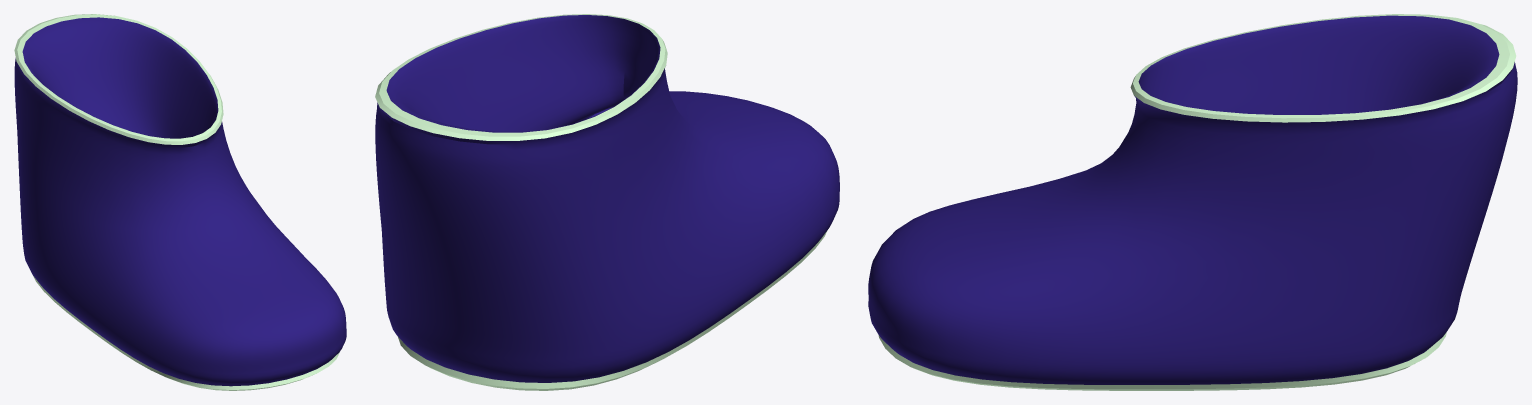
Rendered from галош.fbx.
The picture shows the model from 3 angles, left to right: view 1: azimuth 30°, elevation 25°; view 2: azimuth 150°, elevation 25°; view 3: azimuth 270°, elevation 25°; orthographic projection. The views are drawn at different scales.
Visible parts, largest first — view 1: Cube.002; view 2: Cube.002; view 3: Cube.002.
Boxes of the visible parts, left/top/right/bottom form: Cube.002: left=14, top=14, right=346, bottom=390; Cube.002: left=375, top=14, right=839, bottom=390; Cube.002: left=868, top=14, right=1517, bottom=390.
Size of the model in its own units: 29.69 by 29.23 by 60.69.
